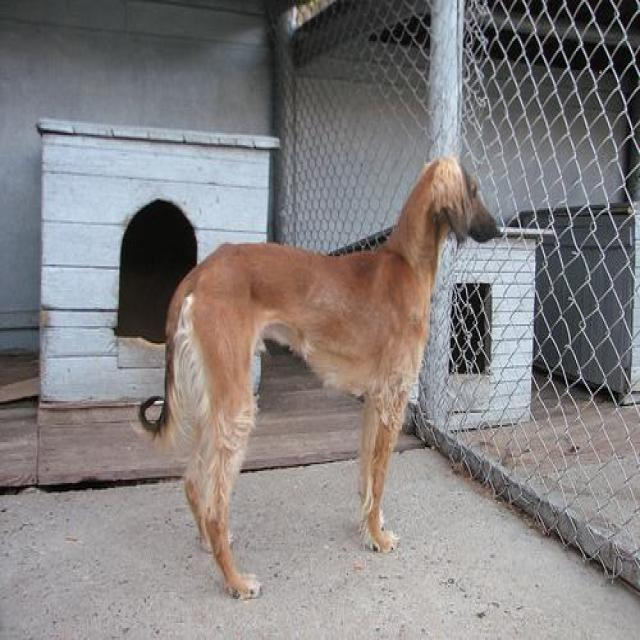saluki: (130, 150, 498, 596)
